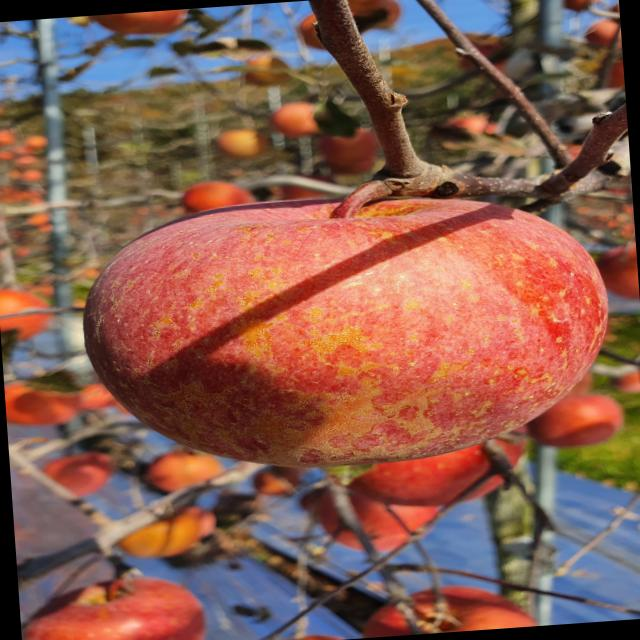fresh: (59, 170, 633, 490)
